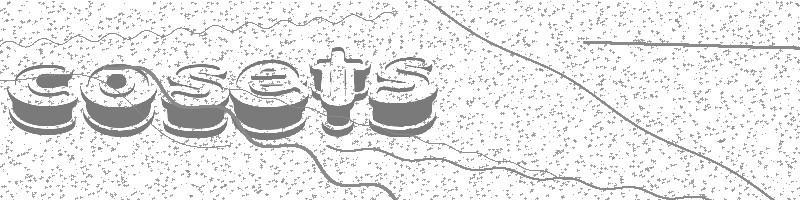c: (7, 63, 79, 136)
e: (230, 59, 309, 140)
o: (81, 62, 156, 138)
s: (369, 56, 439, 138), (160, 62, 230, 139)
t: (310, 45, 368, 137)
